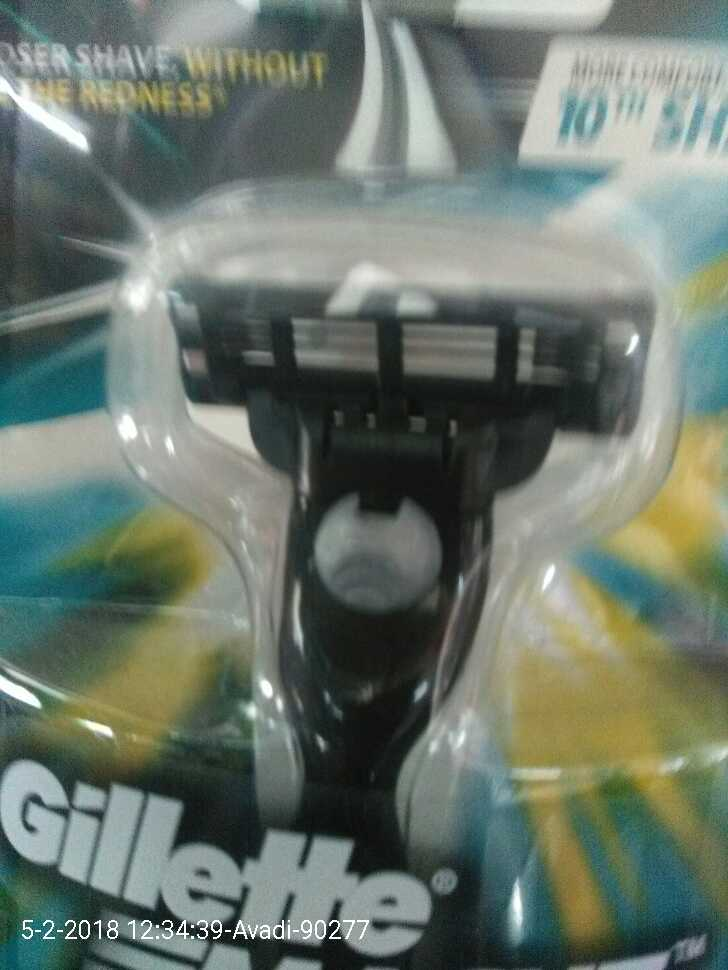reject: (70, 116, 251, 368)
